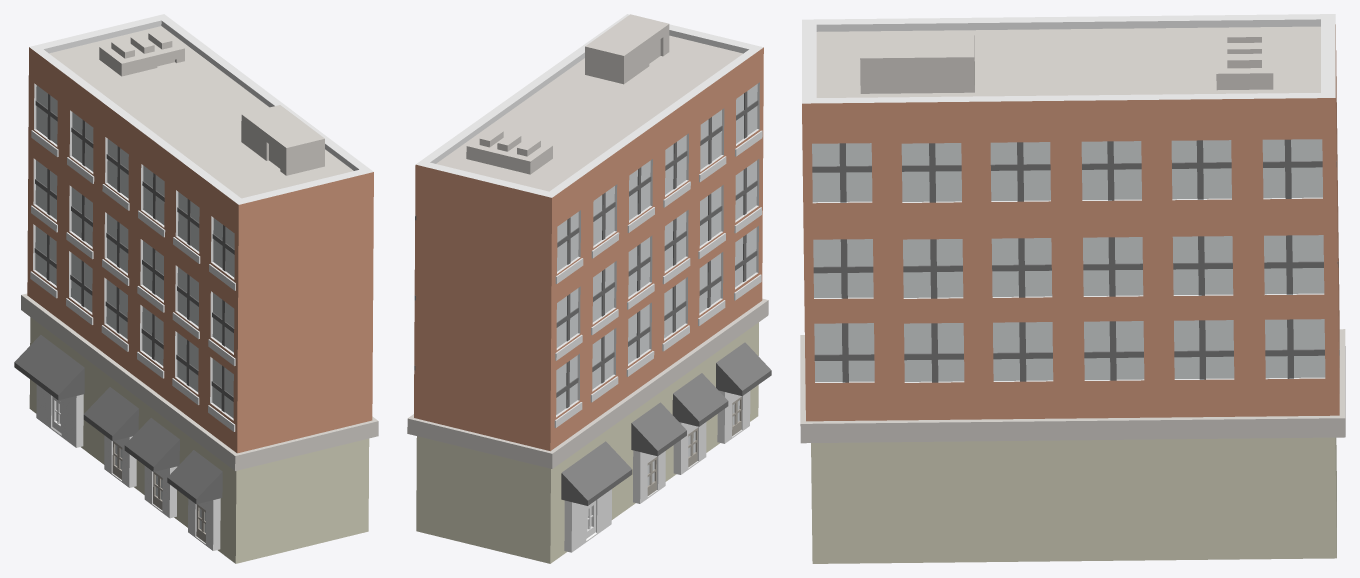
Rendered from building_house_1.glb.
3 renders of one model, left to right at view 1: azimuth 30°, elevation 25°; view 2: azimuth 150°, elevation 25°; view 3: azimuth 270°, elevation 25°, orthographic. The views are drawn at different scales.
Visible parts, largest first — view 1: Building; view 2: Building; view 3: Building.
Boxes of the visible parts, x1=… form: Building: x1=14, y1=14, x2=378, y2=563; Building: x1=407, y1=14, x2=771, y2=563; Building: x1=800, y1=14, x2=1345, y2=563.
Size of the model in its own units: 9.03 by 20.26 by 20.37.
